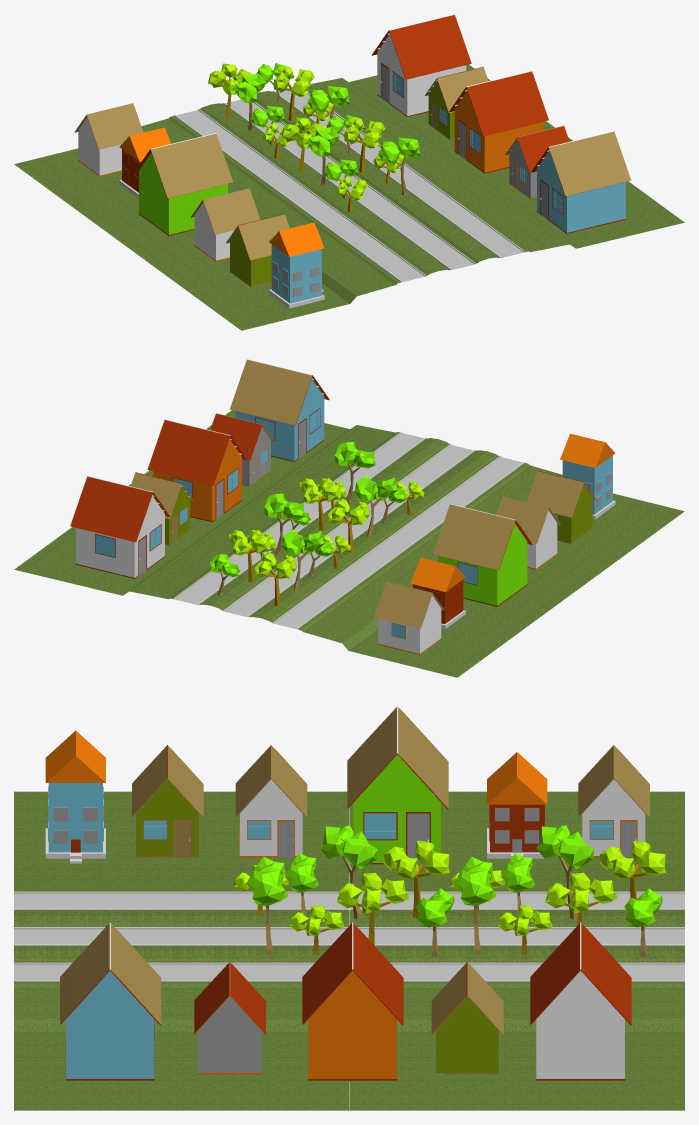
File: Parte_A.fbx
3 renders of one model, top to bottom at view 1: azimuth 30°, elevation 25°; view 2: azimuth 150°, elevation 25°; view 3: azimuth 270°, elevation 25°, orthographic. The views are drawn at different scales.
Visible parts, largest first — view 1: G1-CHAO, G3-CASAS, G1-ARVORES; view 2: G1-CHAO, G3-CASAS, G1-ARVORES; view 3: G1-CHAO, G3-CASAS, G1-ARVORES.
Boxes of the visible parts, bbox=[...] form: G1-CHAO: bbox=[14, 64, 684, 330]; G3-CASAS: bbox=[74, 14, 631, 308]; G1-ARVORES: bbox=[208, 63, 419, 212]; G1-CHAO: bbox=[14, 410, 684, 677]; G3-CASAS: bbox=[70, 359, 615, 654]; G1-ARVORES: bbox=[209, 442, 424, 606]; G1-CHAO: bbox=[14, 791, 684, 1110]; G3-CASAS: bbox=[45, 706, 649, 1080]; G1-ARVORES: bbox=[234, 825, 666, 956].
Size of the model in its own units: 14400 by 2404 by 12800.
